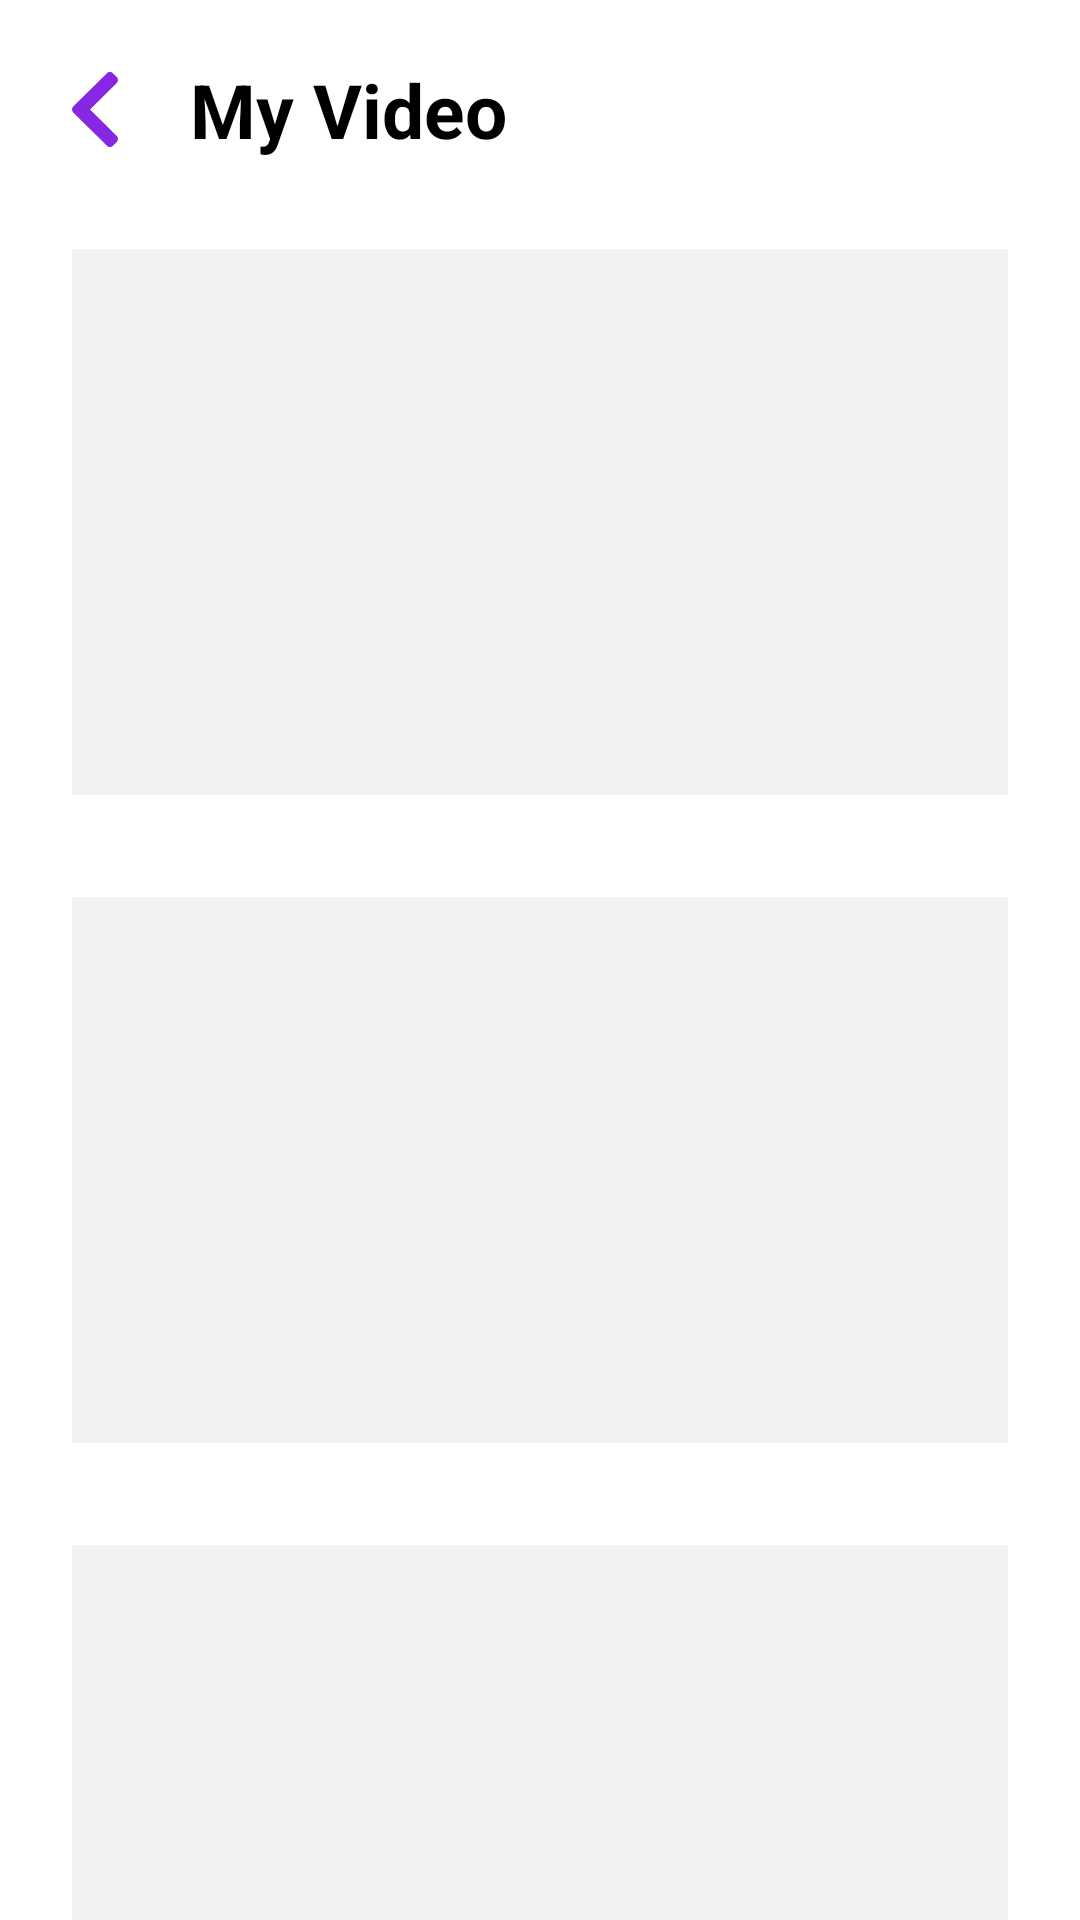

Screen size 1080px×1920px. Icon name, then its center in pixels as [x,y]:
back: [95,109]
